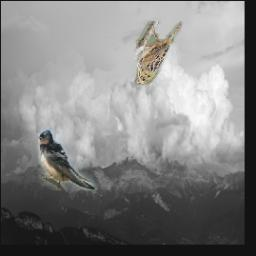Sparrow: (134, 22, 186, 86)
Swallow: (38, 129, 110, 190)
